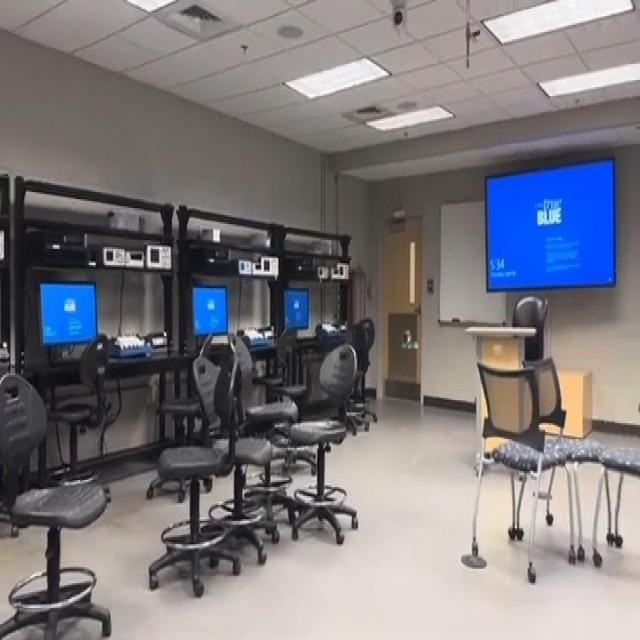drone: (396, 308, 424, 360)
